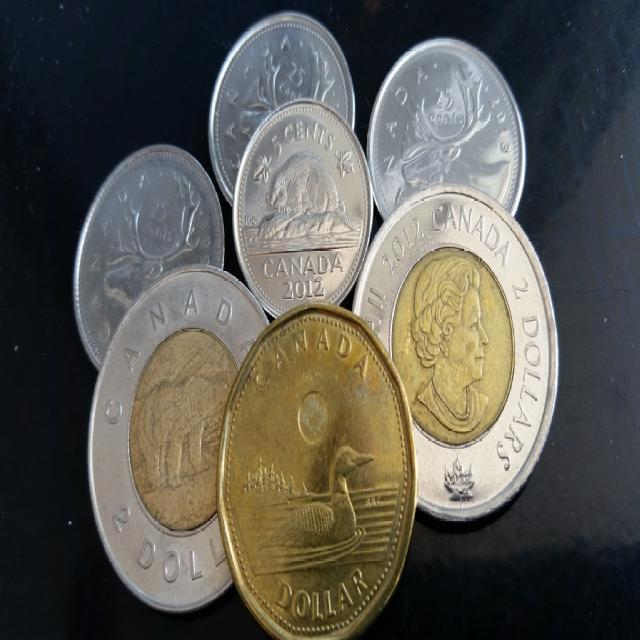Coin: (73, 9, 562, 639)
